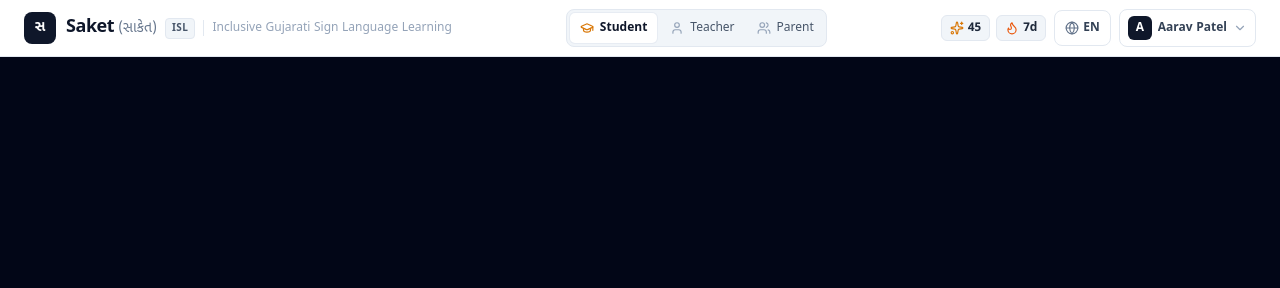
Test: Header component › overflow menu opens, exposes audio/credits/sign-out, and closes on Escape
Later steps or results of the test are not shown.
# Open menu
Click the button with aria-label "account and settings menu". click: (1187, 28)
box: 1119,9 -> 1256,47
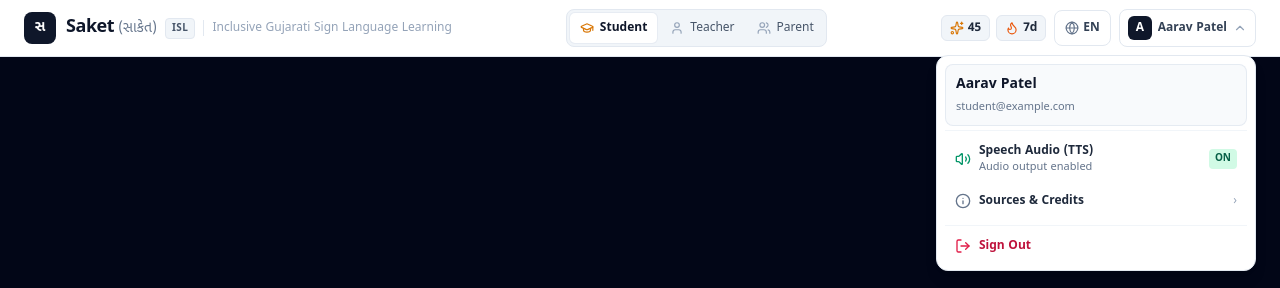
Result: the text "Speech Audio (TTS)" is shown at 979,143 -> 1094,159
Result: the text "Sources & Credits" is shown at 979,193 -> 1084,209
Result: the text "Sign Out" is shown at 979,238 -> 1031,254
